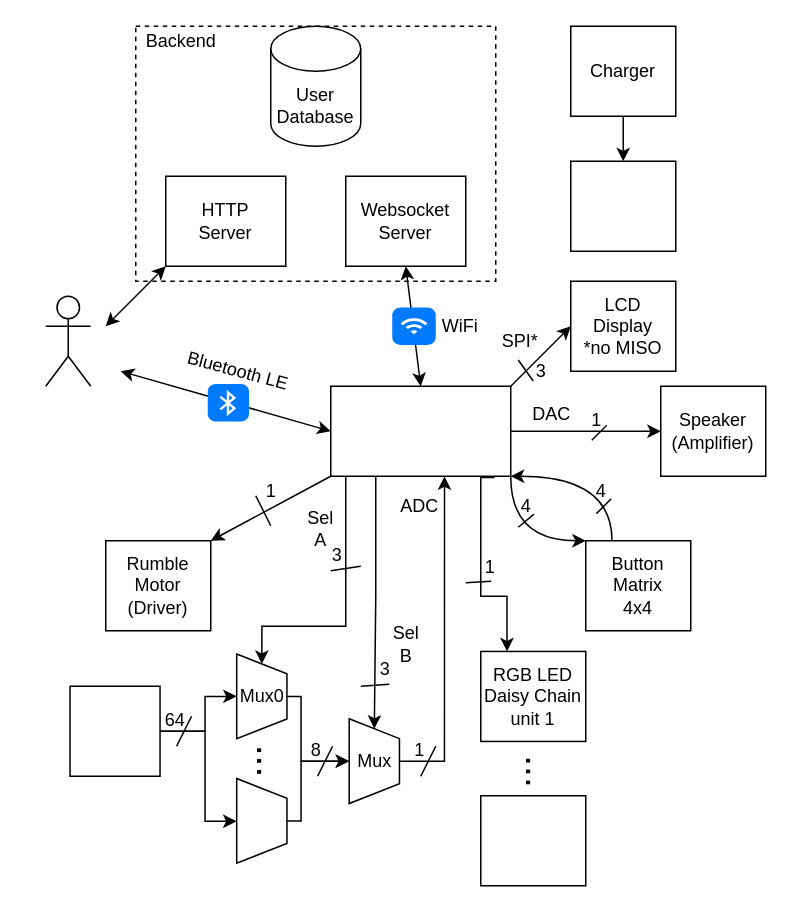
This 792x912 diagram has some shape labels left out. The centre of each missing label's shape, as x and y in pixels:
Battery: pixel 622 205
Computer/ Tablet/ Phone: pixel 67 340
Microcontroller ESP32: pixel 420 430
Mux7: pixel 261 820
Resistive Ship Slots: pixel 114 730
RGB LED Daisy Chain unit 128: pixel 532 840
